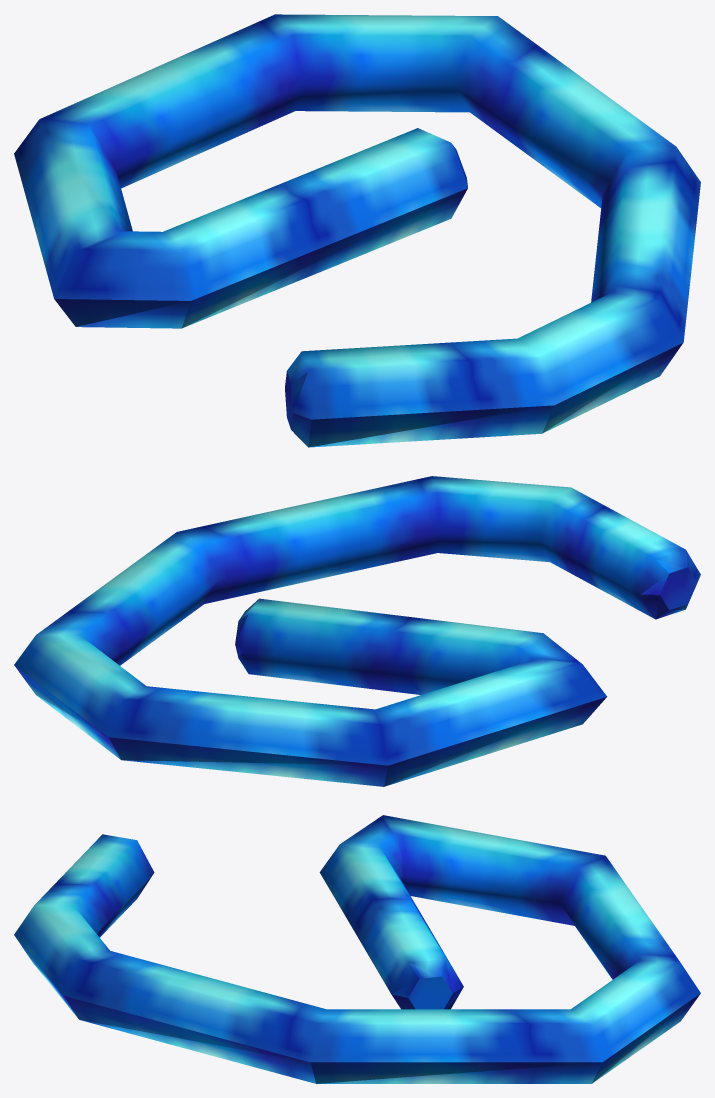
File: furni_0200454.FBX
3 views of the same model, one above another, from view 1: azimuth 30°, elevation 25°; view 2: azimuth 150°, elevation 25°; view 3: azimuth 270°, elevation 25° (orthographic). The views are drawn at different scales.
Parts seen in each view (by area): view 1: furni_0200454; view 2: furni_0200454; view 3: furni_0200454.
Part boxes in pixels (<box>): furni_0200454: <box>14,14,700,447</box>; furni_0200454: <box>14,476,700,786</box>; furni_0200454: <box>14,815,700,1083</box>.
Size of the model in its own units: 42.54 by 5.11 by 54.17.
1 material, 1 textured.
